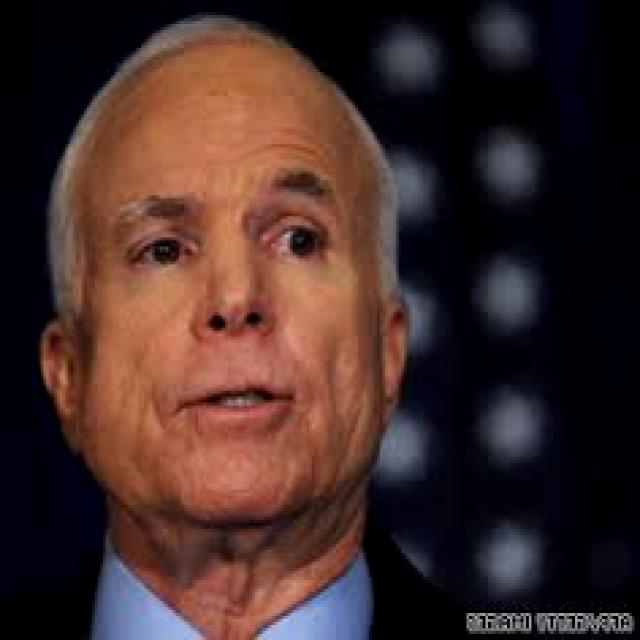normal_face: (42, 10, 399, 531)
